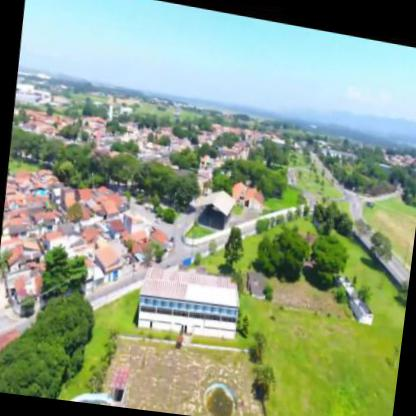agua: (198, 376, 241, 415)
